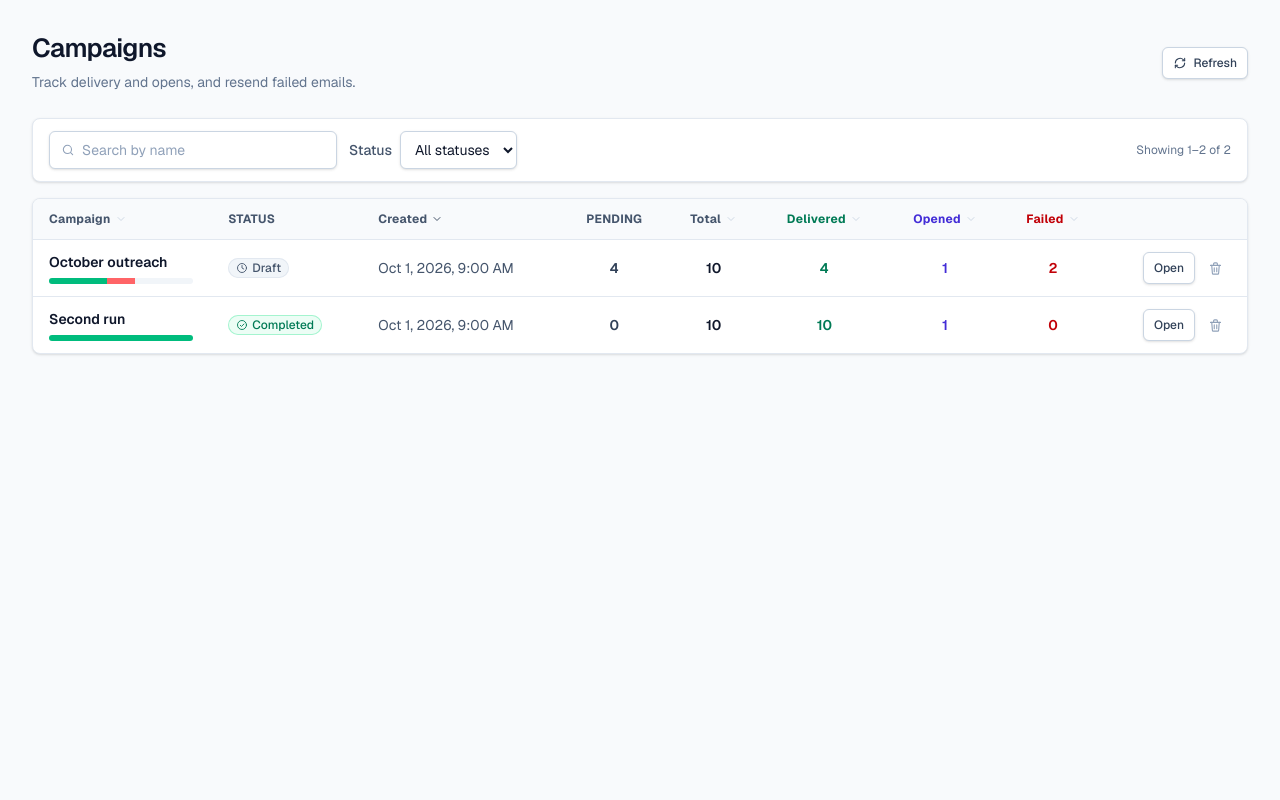
CampaignsDashboardPage › confirms deletion in a dialog naming the campaign and reports released drafts
This screenshot has width=1280, height=800.
Step 1. Click the button named "Delete campaign October outreach" → (1215, 268), box [1199,252,1231,284]
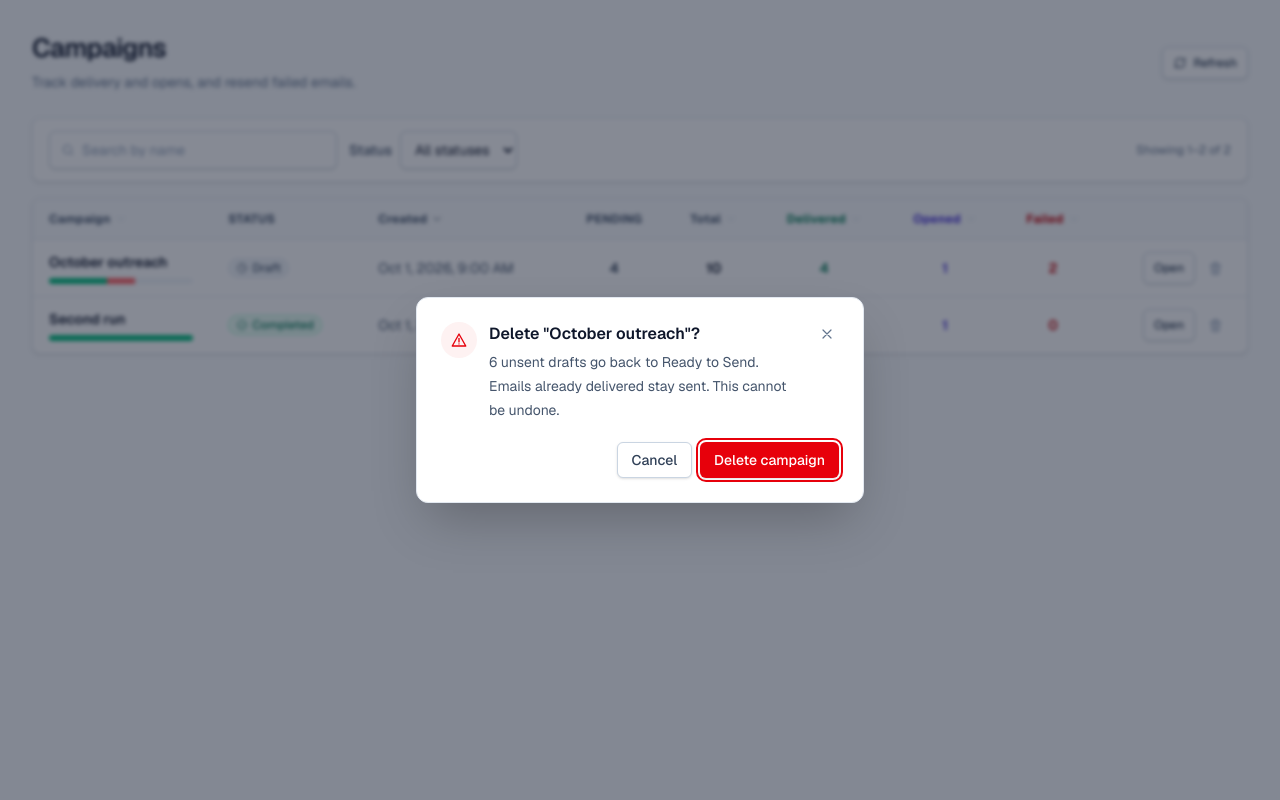
Result: the heading "Delete \"October outreach\"?" is shown at [489,323,700,344]
Result: the text "6 unsent drafts go back to Ready to Send" is shown at [489,353,786,419]
Step 2. Click the button "Delete campaign" → (770, 460), box [700,442,839,478]
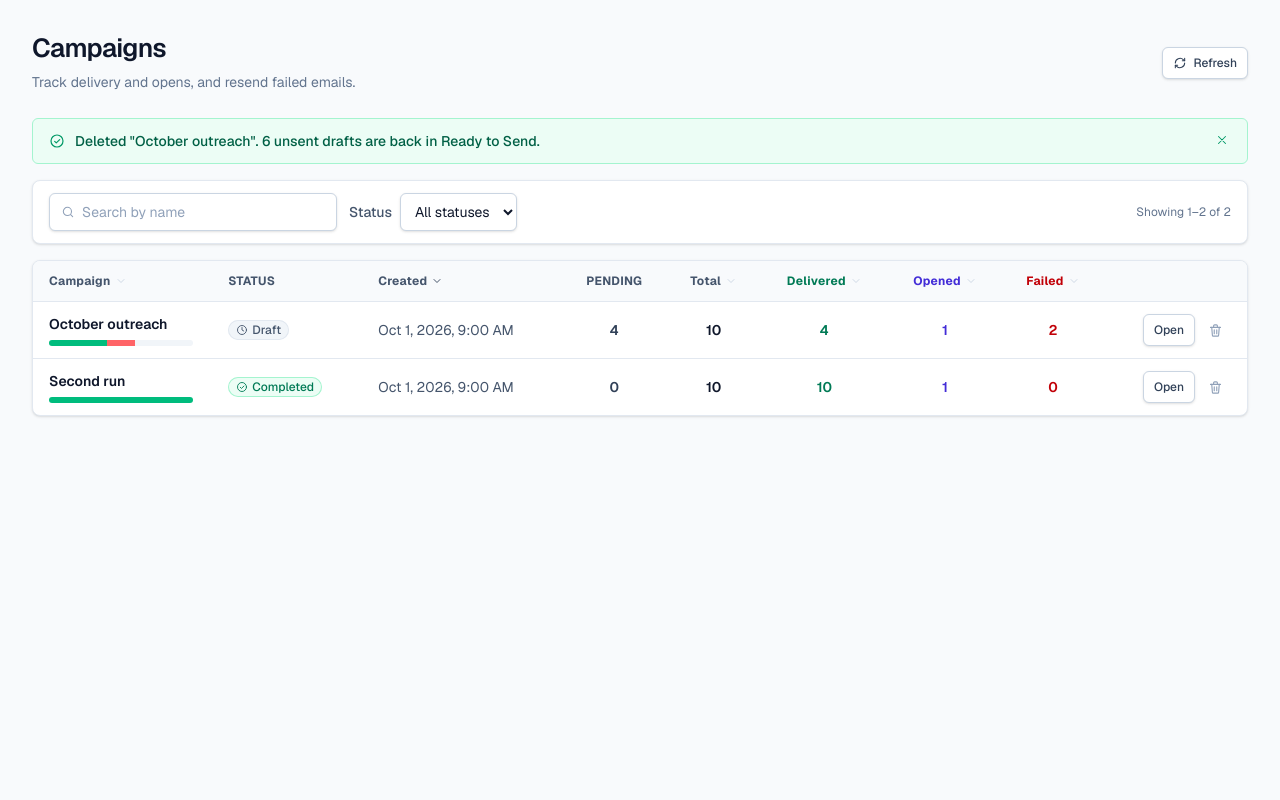
Result: the text "Deleted \"October outreach\". 6 unsent drafts are back in Ready to Send." is shown at [75,132,540,150]
Result: the dialog is gone
